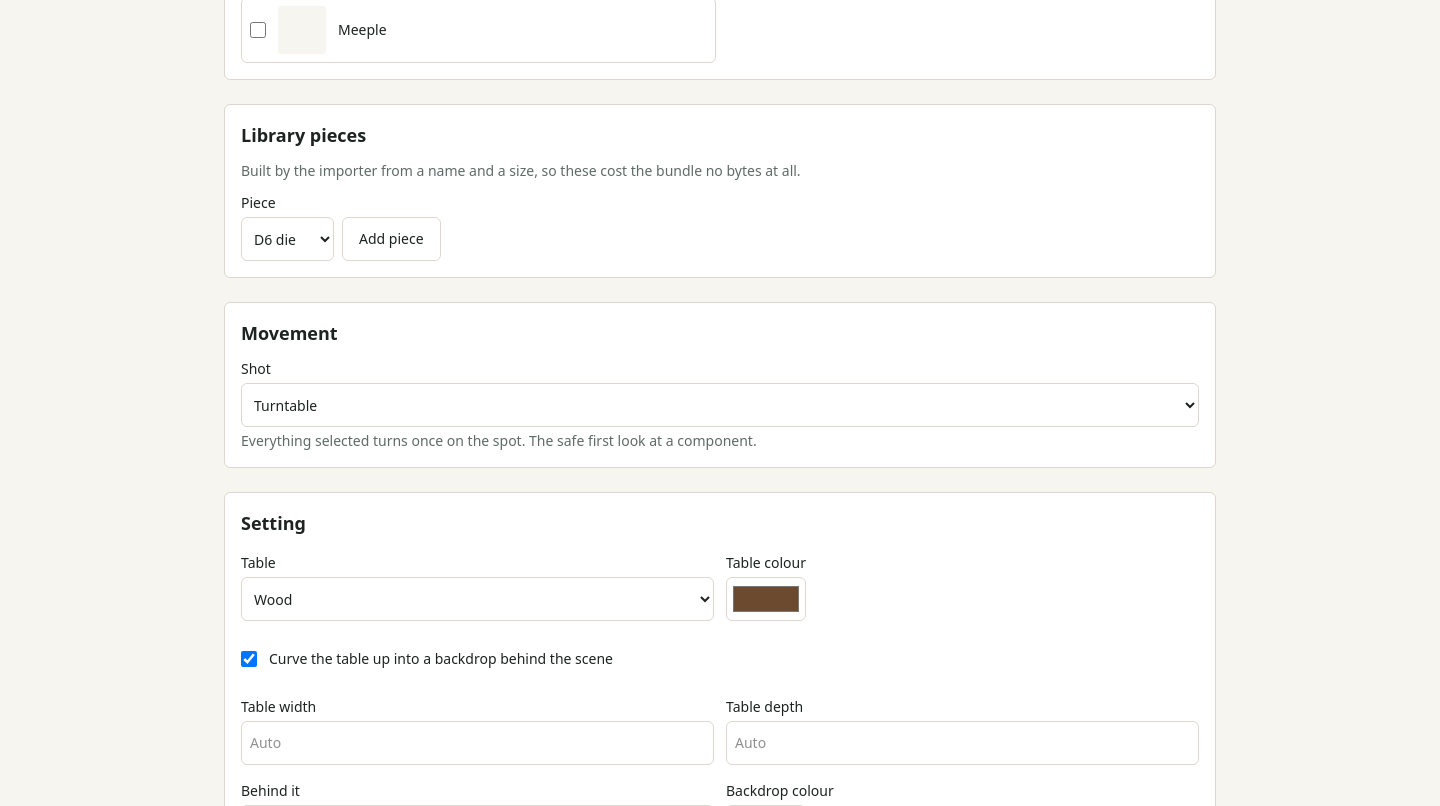
Test: Scene export screen › offers the templates the exporter itself knows about
(page scrolled)
Select "Orbit" in the dropdown labelled "Shot". click: [720, 405]
box: [241, 383, 1199, 427]
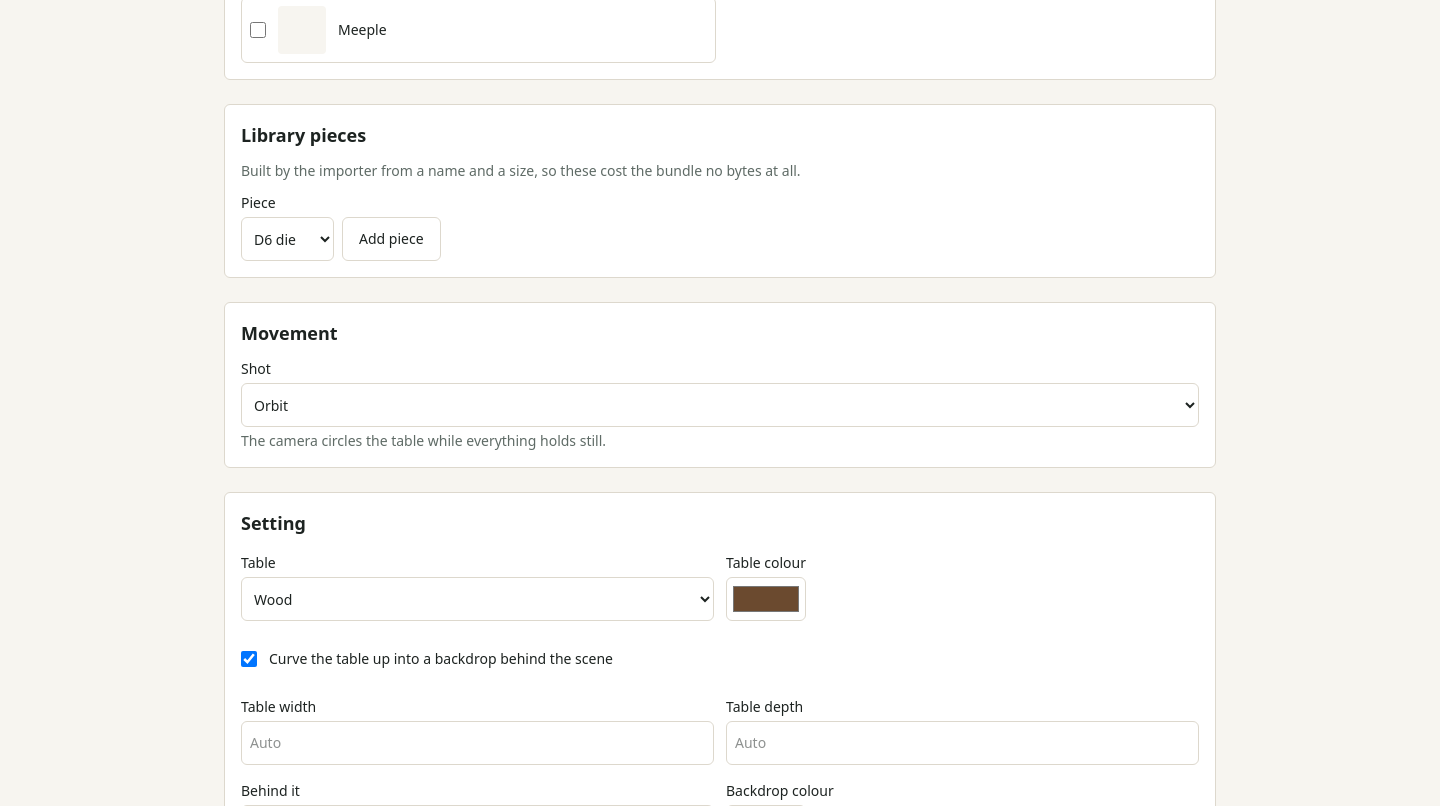
Result: the text "The camera circles the table while everything holds still." is shown at [241, 431, 606, 450]
